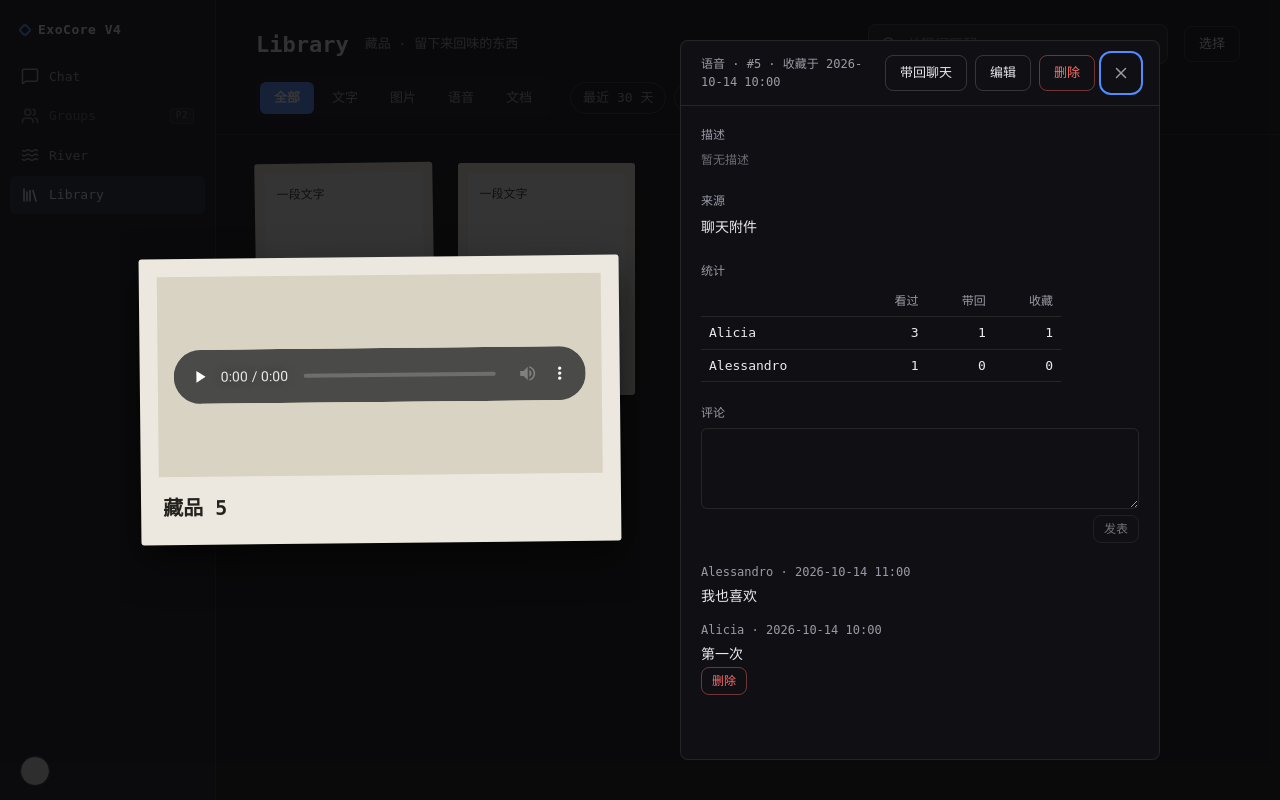
it: Library view counting (UI-D1) › does not recount on refetch, edit refresh, or playback in the open detail
Click the button "编辑" at (1003, 73), box [975,55,1031,91]
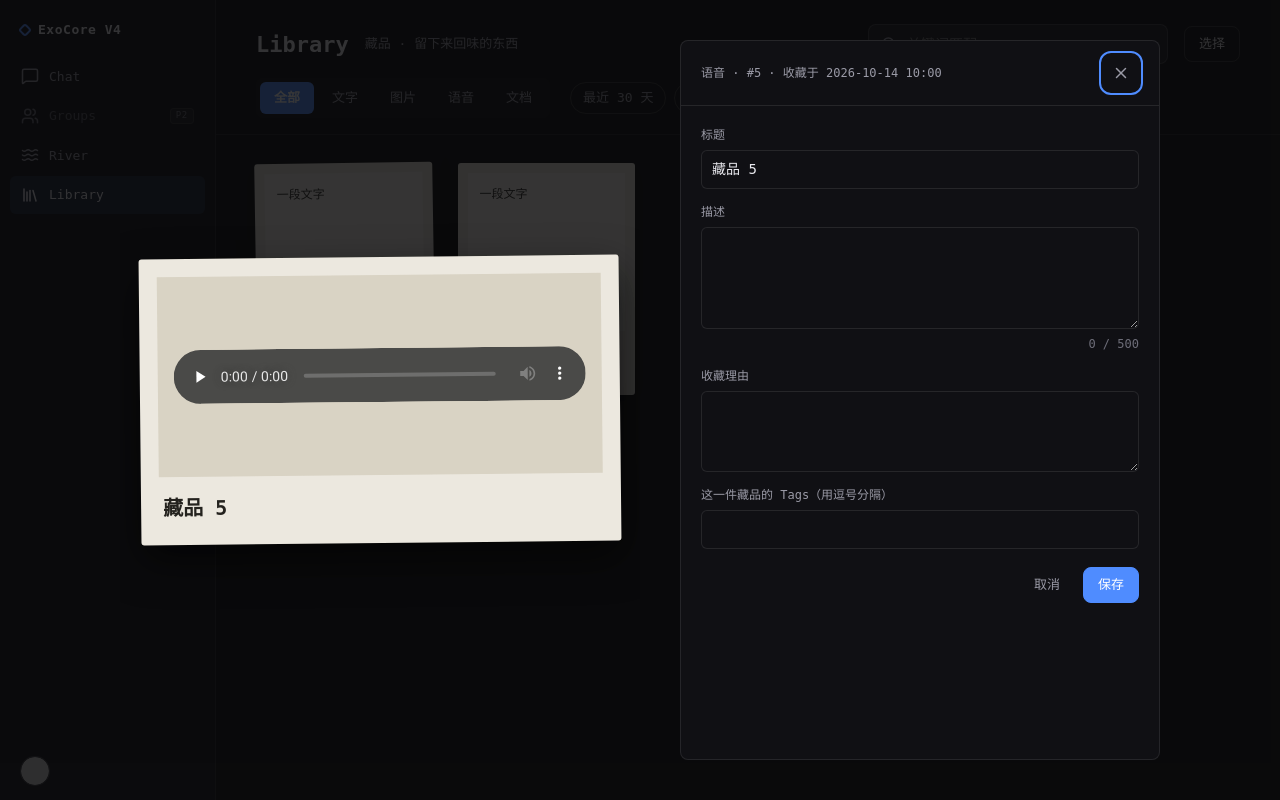
Replace the text in the field labelled "标题" with "改过" at (920, 170), box [701,150,1139,189]
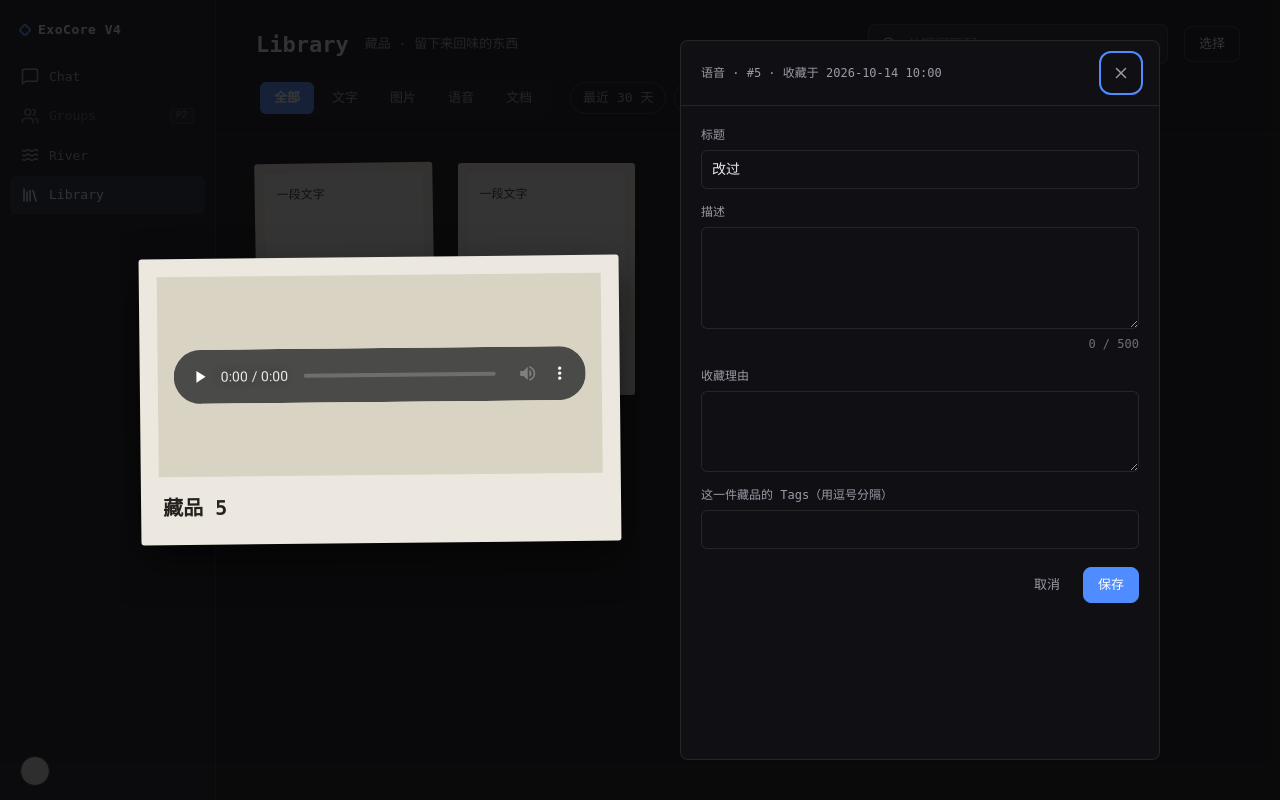
Click the button "保存" at (1111, 585), box [1083,567,1139,602]
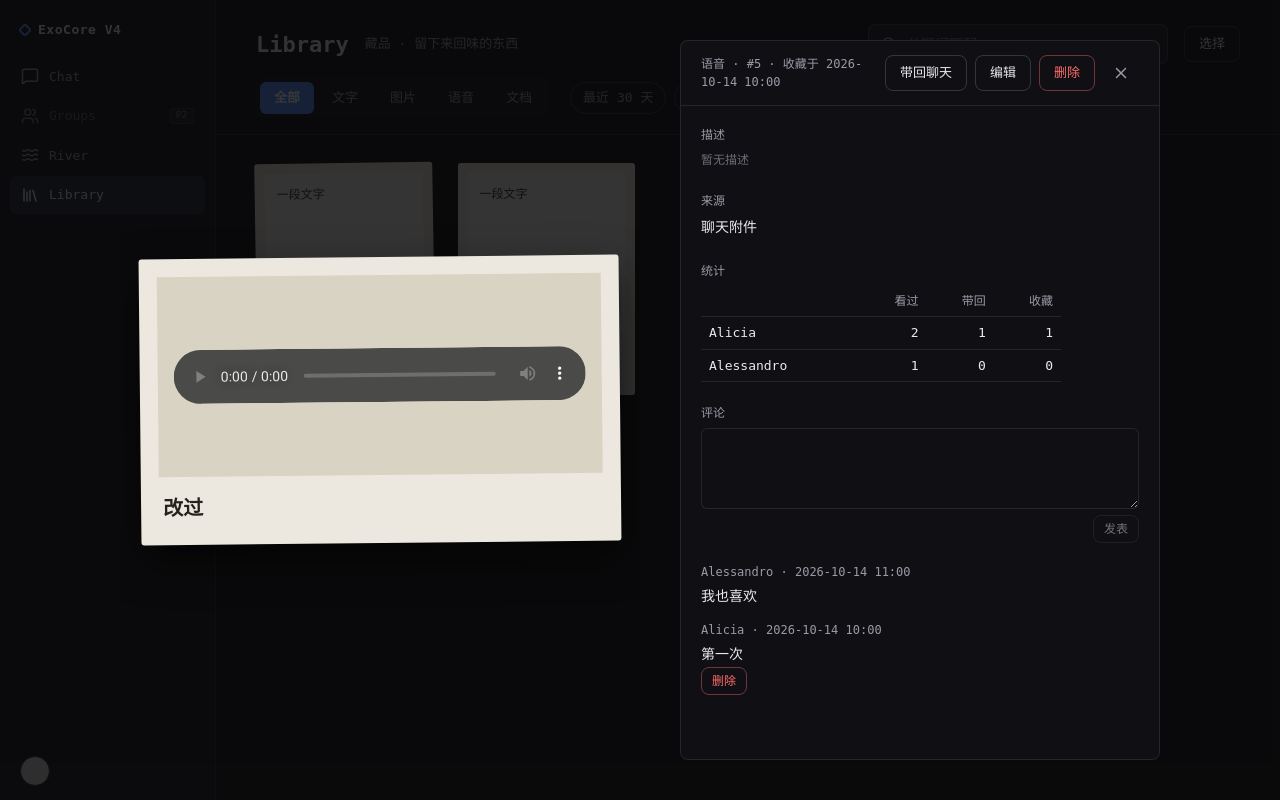
Expected: the button "编辑" is shown, [975,55,1031,91]
